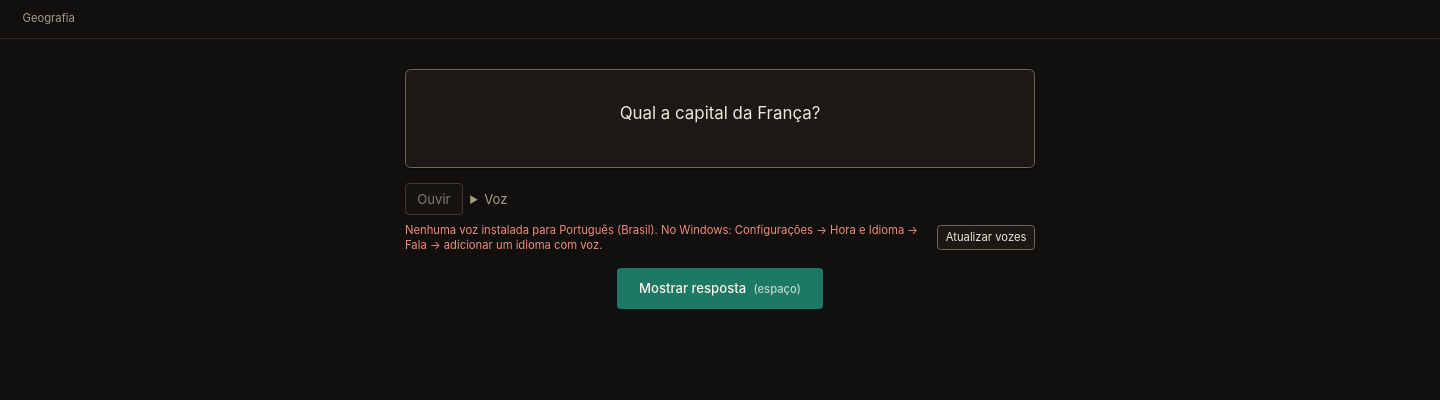
it: EstudoSessao › clicar em 'Mostrar resposta' revela o verso e os quatro botões de resposta
Expected: the text "Qual a capital da França?" is shown, [620,102,820,122]
Click the button "Mostrar resposta (espaço)". click: click(720, 288)
box: [617,268,823,309]
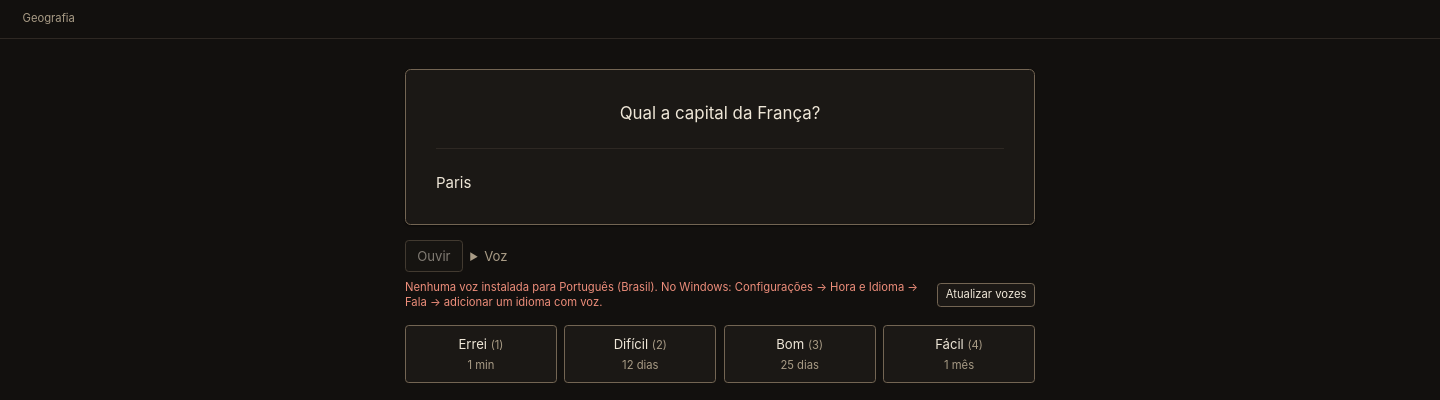
Expected: the text "Paris" is shown, [436,173,471,192]
Expected: the button "Errei (1) 1 min" is shown, [405,325,557,383]
Expected: the button "Difícil (2) 12 dias" is shown, [564,325,716,383]
